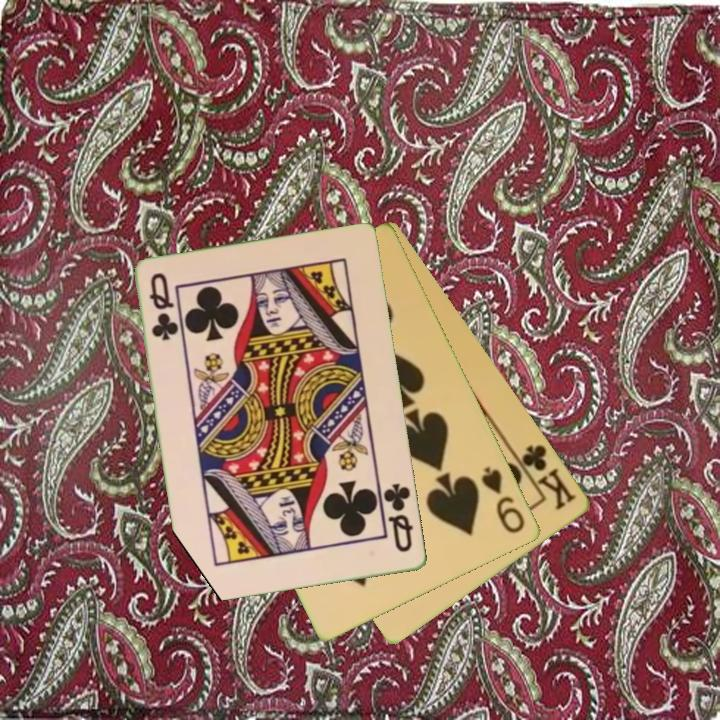9s: (478, 463, 529, 537)
Kc: (511, 441, 580, 513)
Qc: (380, 479, 417, 556), (146, 269, 181, 344)
